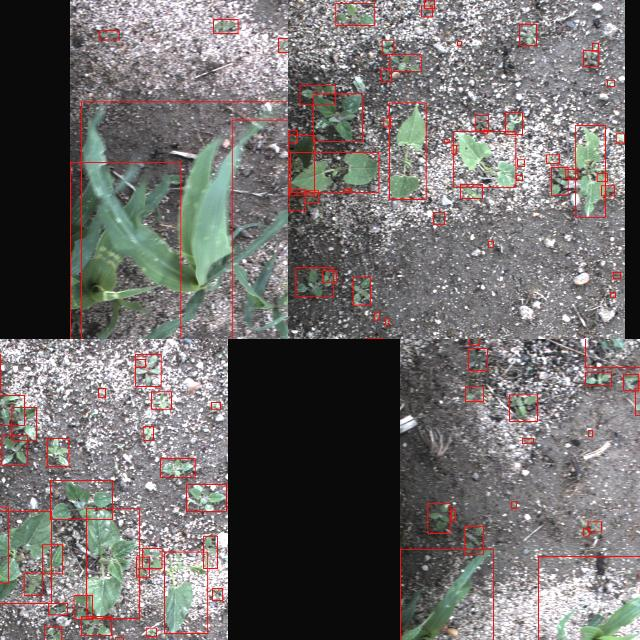crop: (80, 102, 288, 339), (69, 162, 180, 339), (231, 119, 288, 339), (538, 556, 640, 640), (86, 509, 140, 619), (0, 511, 51, 603), (388, 103, 426, 199), (164, 552, 208, 634), (290, 152, 378, 192), (454, 132, 516, 186), (576, 125, 606, 217), (50, 480, 112, 520), (288, 136, 314, 196), (43, 544, 63, 574), (460, 184, 482, 198)
weed: (400, 549, 494, 640), (312, 94, 362, 142), (187, 484, 227, 512), (295, 268, 333, 296), (336, 2, 374, 26), (135, 354, 161, 386), (12, 407, 36, 441), (509, 394, 537, 422), (2, 435, 28, 465), (299, 85, 335, 105), (160, 458, 196, 478), (0, 396, 24, 426), (427, 503, 449, 533), (47, 438, 69, 466), (81, 616, 111, 636), (464, 526, 484, 554), (390, 54, 420, 72), (352, 277, 370, 305), (23, 572, 42, 596), (552, 167, 568, 195), (204, 536, 218, 568), (74, 595, 92, 619), (468, 349, 487, 371), (142, 548, 162, 568), (212, 20, 238, 34), (585, 372, 611, 386), (520, 24, 536, 46), (506, 112, 522, 134), (289, 190, 305, 210), (152, 392, 172, 408), (465, 386, 483, 402), (136, 557, 150, 577), (48, 603, 68, 615), (44, 627, 62, 640), (584, 50, 598, 66), (474, 115, 488, 131), (624, 374, 638, 390), (99, 30, 119, 40), (382, 40, 394, 54), (304, 191, 318, 203), (322, 270, 336, 282), (212, 588, 224, 600), (278, 38, 288, 52), (381, 68, 391, 82), (546, 154, 560, 164), (144, 426, 154, 440), (588, 522, 602, 532), (566, 169, 578, 179), (434, 212, 444, 224), (602, 186, 614, 196), (288, 129, 296, 142), (422, 6, 432, 16), (596, 173, 608, 181), (134, 359, 146, 367), (424, 0, 434, 8), (146, 628, 156, 636), (211, 402, 221, 410), (522, 438, 534, 444), (98, 388, 105, 398), (616, 134, 624, 142), (384, 118, 391, 126), (593, 43, 599, 51), (613, 273, 621, 279), (451, 509, 455, 521), (584, 528, 590, 536), (452, 144, 456, 154), (608, 80, 614, 86), (518, 160, 524, 166), (610, 292, 616, 298), (488, 241, 494, 247), (343, 188, 351, 192), (374, 312, 378, 320), (588, 429, 592, 436), (516, 176, 522, 180), (385, 319, 389, 325), (512, 502, 516, 508), (457, 42, 461, 46), (483, 130, 487, 134), (444, 140, 450, 142)
